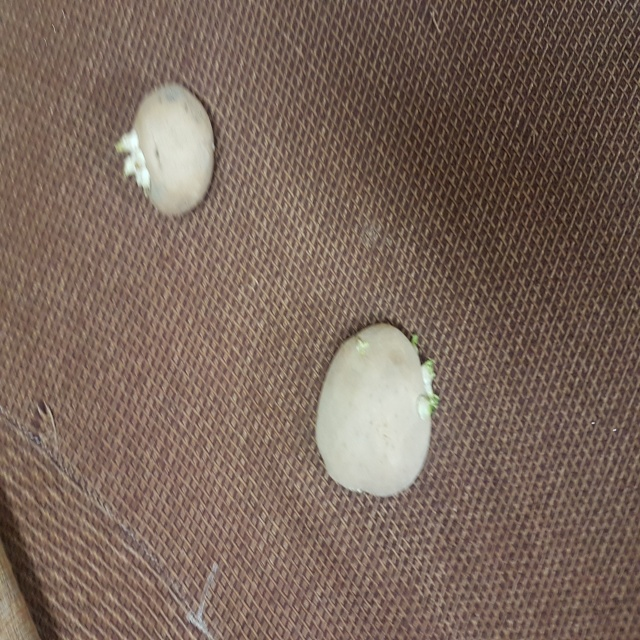potato: (313, 317, 442, 500), (120, 81, 222, 215)
